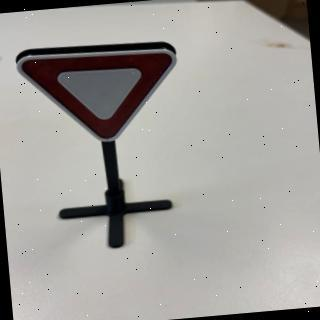sign_yield: (13, 37, 191, 157)
